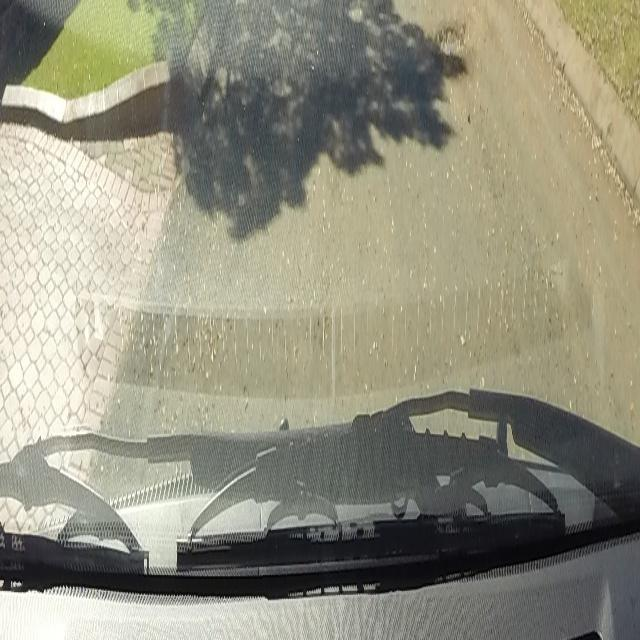pothole: (434, 19, 463, 61)
